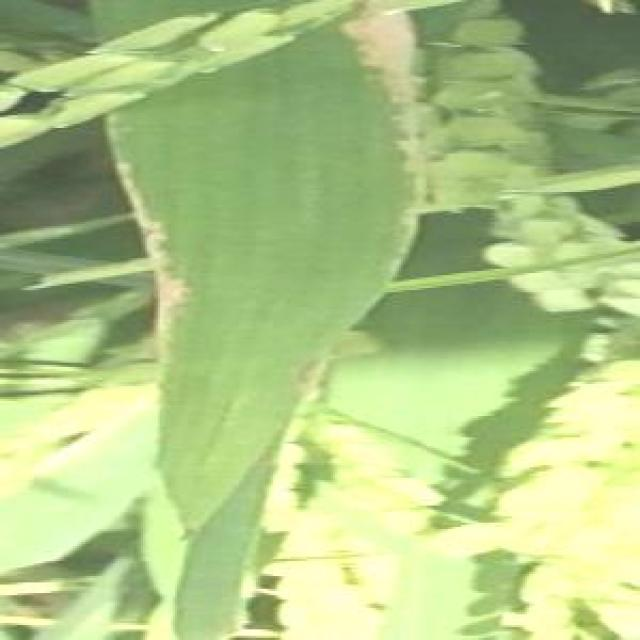Bacterial_Leaf_Blight: (118, 94, 292, 461)
